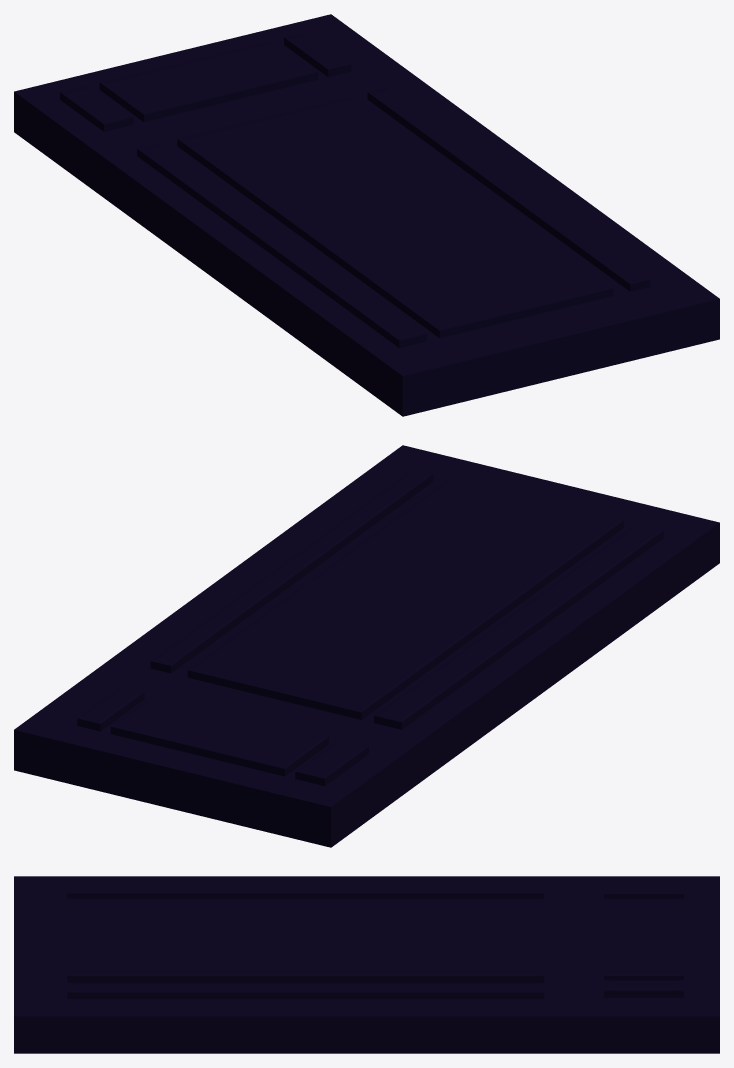
The model's file is Keyboard.glb.
3 views of the same model, one above another, from view 1: azimuth 30°, elevation 25°; view 2: azimuth 150°, elevation 25°; view 3: azimuth 270°, elevation 25° (orthographic). The views are drawn at different scales.
Visible parts, largest first — view 1: Cube; view 2: Cube; view 3: Cube.
Part boxes in pixels (bbox=[...]): Cube: bbox=[14, 14, 719, 416]; Cube: bbox=[14, 445, 719, 847]; Cube: bbox=[14, 876, 719, 1053].
Size of the model in its own units: 0.3625 by 0.0531 by 0.7696.
